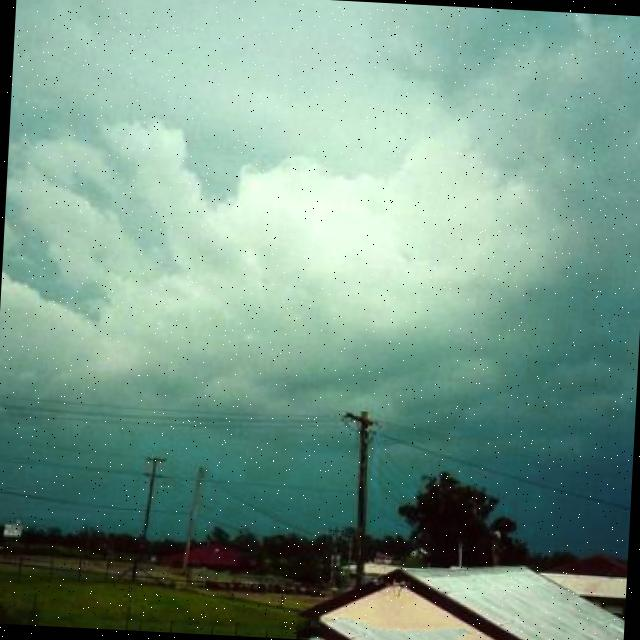Sc: (1, 1, 640, 411)
